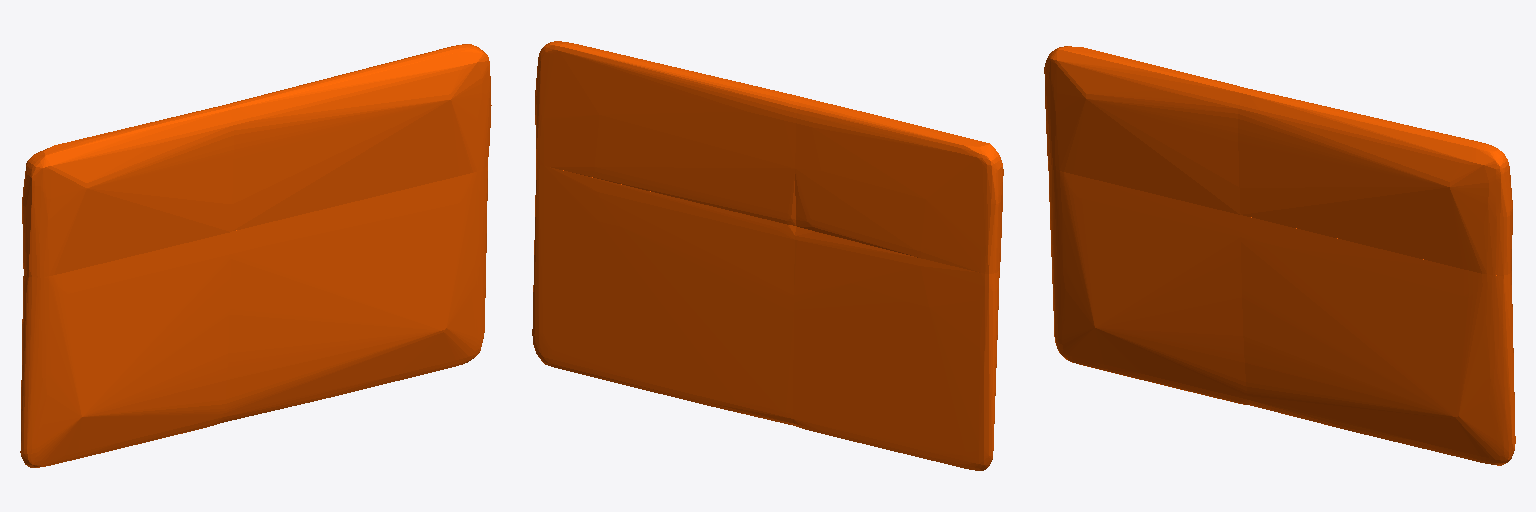
URDF robot description (design):
<?xml version="1.0"?>
<robot name="design">
  <material name="obj_color">
      <color rgba="1.0 0.423529411765 0.0392156862745 1.0"/>
  </material>
  <link name="base">
    <visual>
      <origin xyz="0.0 0.0 0.0"/>
      <geometry>
        <mesh filename="scan.obj" scale="1 1 1"/>
      </geometry>
      <material name="obj_color"/>
    </visual>
    <collision>
      <origin xyz="0.0 0.0 0.0"/>
      <geometry>
        <mesh filename="scan.obj" scale="1 1 1"/>
      </geometry>
    </collision>
  </link>
</robot>

--- What the picture shows (computed from the rendered views, not written in the file) ---
Views: 3 orthographic renders of the robot side by side, from view 1: azimuth 30°, elevation 25°; view 2: azimuth 150°, elevation 25°; view 3: azimuth 330°, elevation 25°.
Robot: design — 1 links, 0 joints (none); root link base; default pose: all joints at 0.
Visible links, largest first — view 1: base; view 2: base; view 3: base.
Link boxes in pixels (box(x1,y1,x2,y2)): base: box(20, 44, 491, 467); base: box(532, 41, 1003, 470); base: box(1044, 46, 1515, 465).
Size in the robot's own frame: 0.3569 by 0.0263 by 0.2373 metres.
Meshes: 1 distinct files referenced, 1 mesh visuals loaded (1 OBJ).
